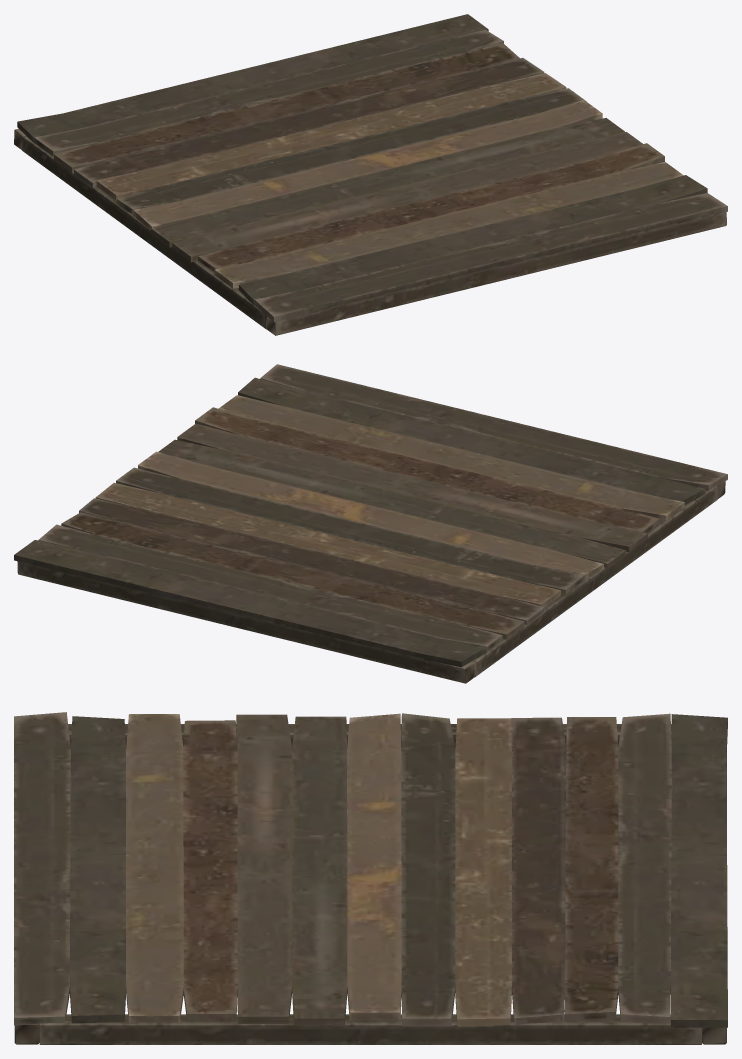
File: floor.frontier_variant_a.glb
3 views of the same model, one above another, from view 1: azimuth 30°, elevation 25°; view 2: azimuth 150°, elevation 25°; view 3: azimuth 270°, elevation 25° (orthographic). The views are drawn at different scales.
Parts seen in each view (by area): view 1: floor_a_LOD0; view 2: floor_a_LOD0; view 3: floor_a_LOD0.
Part boxes in pixels (x1,y1,x2,y2): floor_a_LOD0: (14,14,727,335); floor_a_LOD0: (14,364,727,683); floor_a_LOD0: (14,712,727,1044).
Size of the model in its own units: 3.03 by 0.1485 by 3.01.
Materials: 1 (1 with a texture image).
